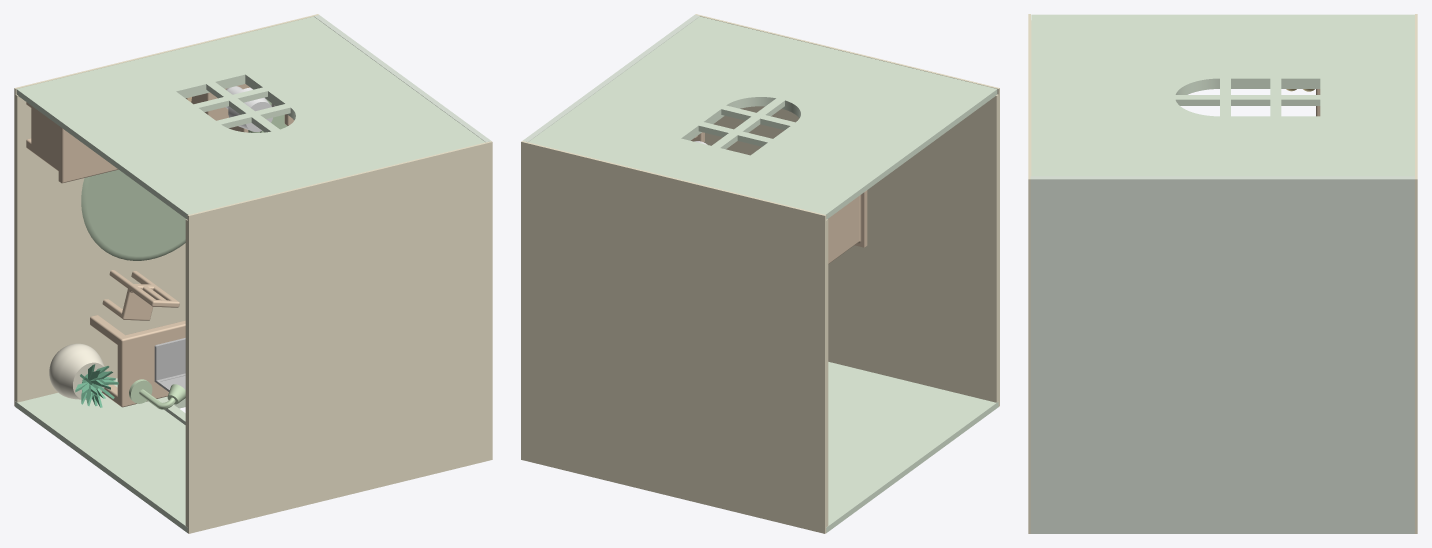
File: Assembly.gltf
3 views of the same model, side by side, from view 1: azimuth 30°, elevation 25°; view 2: azimuth 150°, elevation 25°; view 3: azimuth 270°, elevation 25° (orthographic). The views are drawn at different scales.
Parts seen in each view (by area): view 1: Top/Bottom Wall (×2), Side Wall (×2), Part 1, Desk, Dresser, Chair, Plant2, Laptop, Back Wall, PlantTop2, Desk Lamp, Lamp; view 2: Top/Bottom Wall (×2), Side Wall (×2), Dresser, Back Wall; view 3: Back Wall, Side Wall, Top/Bottom Wall (×2).
Boxes of the visible parts, x1,y1,x2,y2 form: Top/Bottom Wall (×2): (14, 14, 492, 533); Side Wall (×2): (15, 16, 485, 532); Part 1: (81, 169, 185, 260); Desk: (90, 315, 185, 407); Dresser: (26, 102, 118, 183); Chair: (102, 270, 179, 320); Plant2: (49, 343, 107, 399); Laptop: (154, 338, 185, 391); Back Wall: (314, 15, 490, 142); PlantTop2: (75, 364, 118, 407); Desk Lamp: (129, 379, 185, 409); Lamp: (225, 86, 272, 131); Top/Bottom Wall (×2): (521, 14, 999, 533); Side Wall (×2): (528, 16, 998, 532); Dresser: (828, 190, 867, 263); Back Wall: (522, 15, 699, 141); Back Wall: (1030, 176, 1414, 533); Side Wall: (1031, 14, 1414, 176); Top/Bottom Wall (×2): (1028, 14, 1417, 533).
Size of the model in its own units: 0.1401 by 0.1401 by 0.1394.
